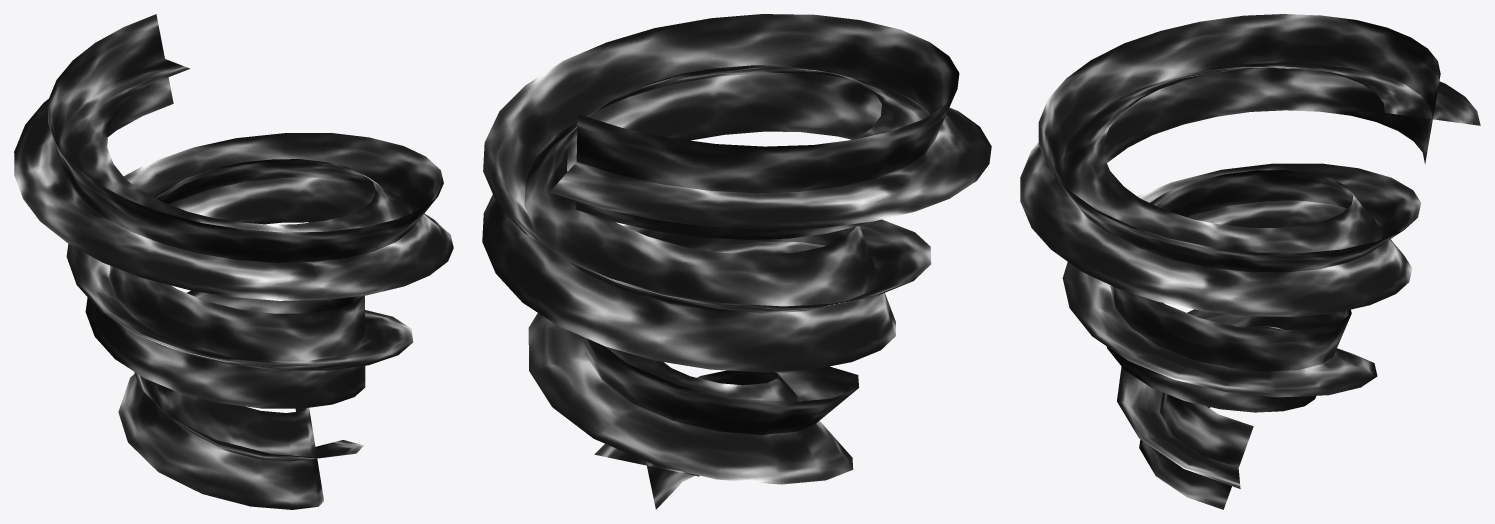
File: kkkkk.FBX
The picture shows the model from 3 angles, left to right: view 1: azimuth 30°, elevation 25°; view 2: azimuth 150°, elevation 25°; view 3: azimuth 270°, elevation 25°; orthographic projection. The views are drawn at different scales.
Visible parts, largest first — view 1: kkkkk; view 2: kkkkk; view 3: kkkkk.
Boxes of the visible parts, x1,y1,x2,y2 form: kkkkk: (14, 14, 453, 509); kkkkk: (482, 14, 991, 509); kkkkk: (1020, 14, 1480, 509).
Bounding box in the file's own units: 128 × 136 × 137.
